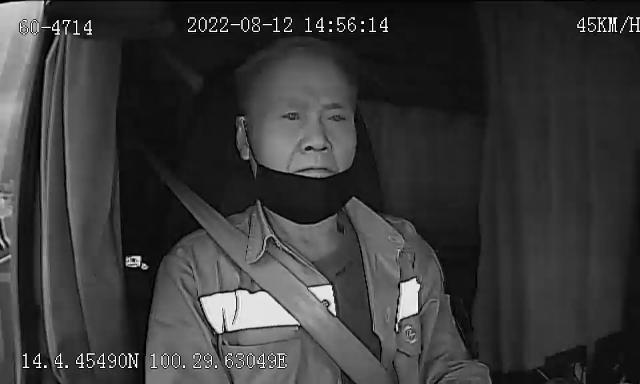SafeDriving: (274, 104, 309, 128), (318, 104, 352, 128)
Seatbelt: (134, 122, 402, 384)
